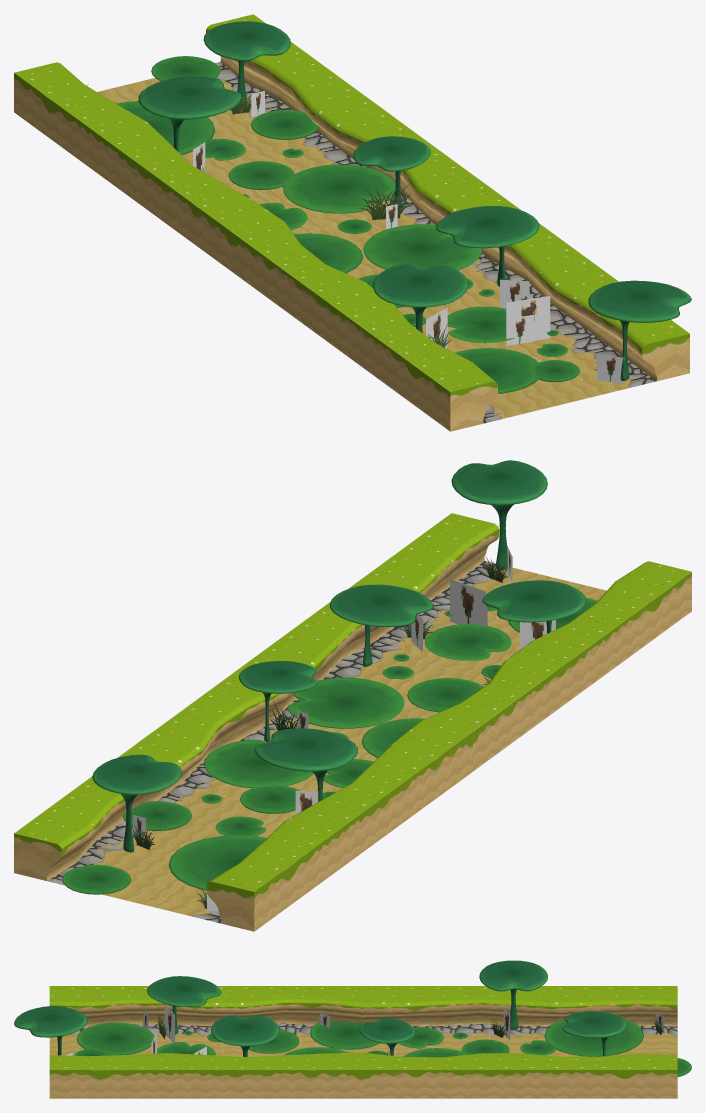
Rendered from Map1.fbx.
The picture shows the model from 3 angles, top to bottom: view 1: azimuth 30°, elevation 25°; view 2: azimuth 150°, elevation 25°; view 3: azimuth 270°, elevation 25°; orthographic projection. The views are drawn at different scales.
Visible parts, largest first — view 1: pCube2, pCube1, pPlane1, pCylinder36, pCylinder30, pCylinder20, pCylinder19, pCylinder1, pCylinder18, pCylinder21, pCylinder22, pCylinder25 (+13 smaller); view 2: pCube2, pCube1, pPlane1, pCylinder30, pCylinder20, pCylinder1, pCylinder19, pCylinder18, pCylinder21, pCylinder38, pCylinder36, pCylinder24 (+9 smaller); view 3: pCube1, pCube2, pPlane1, pCylinder38, pCylinder19, pCylinder25, pCylinder20, pCylinder18, pCylinder1, pCylinder21, pCylinder34, pCylinder22 (+8 smaller).
Part boxes in pixels (x1,y1,x2,y2): pCube2: [14, 62, 497, 431]; pCube1: [206, 14, 689, 381]; pPlane1: [97, 62, 656, 423]; pCylinder36: [283, 164, 395, 213]; pCylinder30: [363, 224, 481, 269]; pCylinder20: [588, 280, 691, 380]; pCylinder19: [138, 76, 241, 151]; pCylinder1: [436, 206, 539, 286]; pCylinder18: [373, 263, 468, 332]; pCylinder21: [203, 21, 290, 107]; pCylinder22: [353, 136, 430, 212]; pCylinder25: [455, 348, 538, 393]; pCube2: [206, 561, 691, 931]; pCube1: [14, 513, 499, 880]; pPlane1: [47, 561, 606, 923]; pCylinder30: [287, 677, 404, 728]; pCylinder20: [451, 460, 547, 570]; pCylinder1: [330, 584, 433, 666]; pCylinder19: [254, 728, 357, 801]; pCylinder18: [482, 580, 586, 633]; pCylinder21: [92, 754, 181, 852]; pCylinder38: [168, 835, 266, 890]; pCylinder36: [204, 739, 313, 788]; pCylinder24: [424, 624, 511, 660]; pCube1: [49, 1052, 677, 1098]; pCube2: [49, 986, 677, 1026]; pPlane1: [49, 1023, 677, 1056]; pCylinder38: [544, 1021, 643, 1056]; pCylinder19: [479, 960, 547, 1029]; pCylinder25: [76, 1022, 154, 1055]; pCylinder20: [14, 1006, 87, 1055]; pCylinder18: [147, 976, 221, 1034]; pCylinder1: [211, 1015, 279, 1056]; pCylinder21: [562, 1011, 626, 1056]; pCylinder34: [310, 1021, 379, 1049]; pCylinder22: [359, 1018, 415, 1055].
Bounding box in the file's own units: 31.7 × 11.49 × 108.
